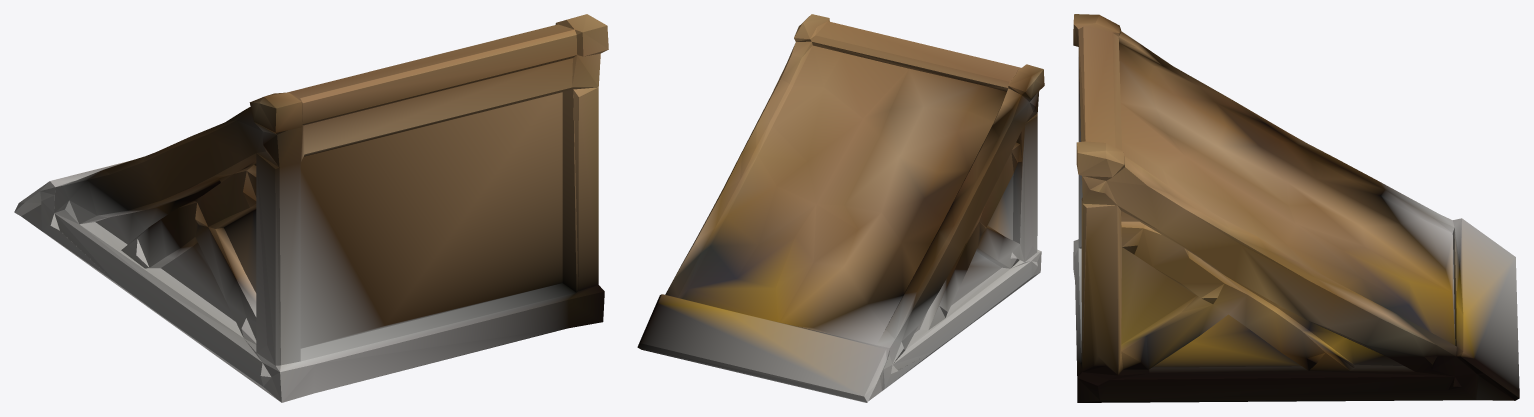
Rendered from ramp.glb.
3 views of the same model, side by side, from view 1: azimuth 30°, elevation 25°; view 2: azimuth 150°, elevation 25°; view 3: azimuth 270°, elevation 25° (orthographic). The views are drawn at different scales.
Visible parts, largest first — view 1: world; view 2: world; view 3: world.
Boxes of the visible parts, x1=… form: world: x1=14, y1=14, x2=608, y2=402; world: x1=637, y1=14, x2=1044, y2=402; world: x1=1073, y1=14, x2=1519, y2=402.
Bounding box in the file's own units: 1.21 × 1 × 1.6.
